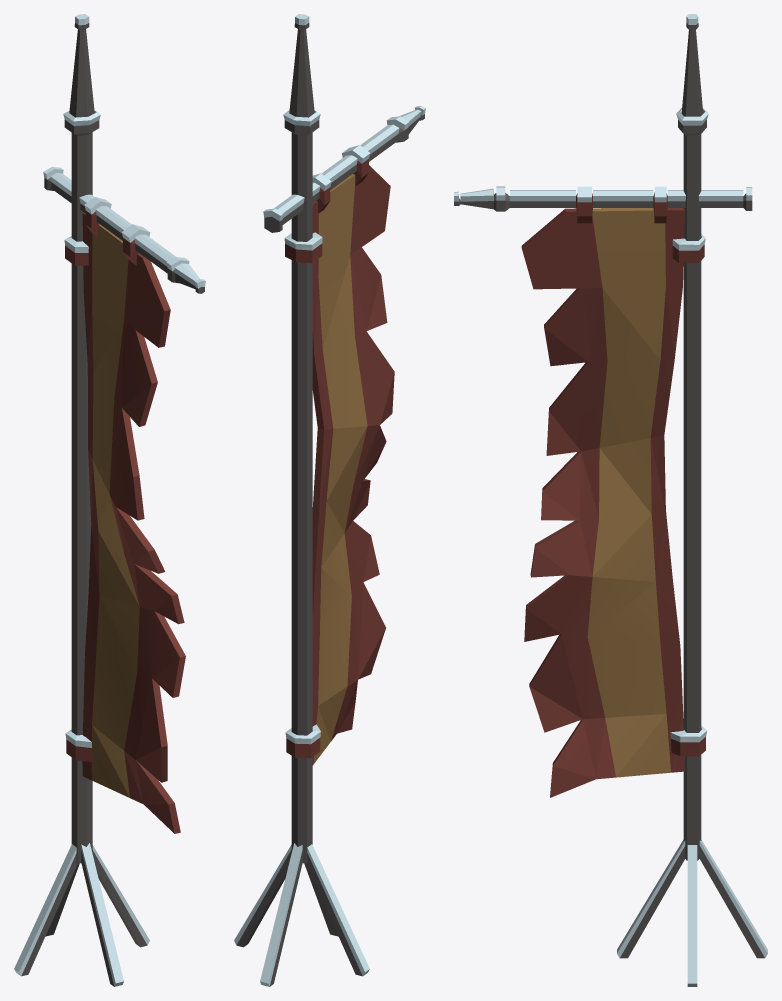
Rendered from Bandera02.glb.
3 renders of one model, left to right at view 1: azimuth 30°, elevation 25°; view 2: azimuth 150°, elevation 25°; view 3: azimuth 270°, elevation 25°, orthographic.
Visible parts, largest first — view 1: SM_Prop_Flag_02_Snow; view 2: SM_Prop_Flag_02_Snow; view 3: SM_Prop_Flag_02_Snow.
Boxes of the visible parts, x1,y1,x2,y2 form: SM_Prop_Flag_02_Snow: [14, 14, 205, 986]; SM_Prop_Flag_02_Snow: [234, 14, 425, 986]; SM_Prop_Flag_02_Snow: [454, 14, 767, 986].
Bounding box in the file's own units: 0.7134 × 4.9 × 1.48.
1 material, 1 textured.
